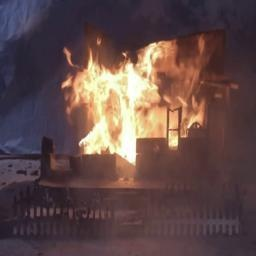fire: (62, 36, 213, 154)
